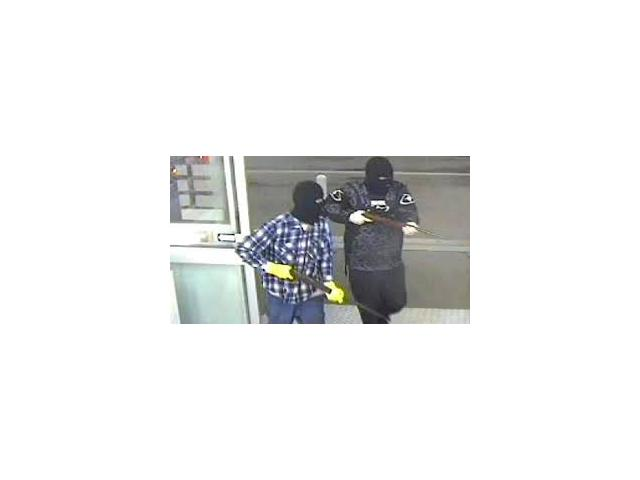rifle: (266, 260, 386, 321), (349, 202, 445, 239)
